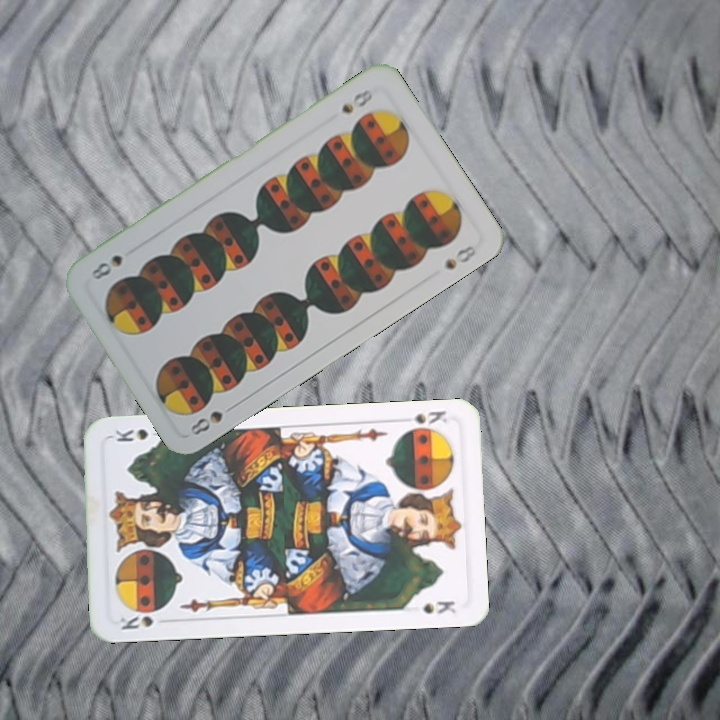S8: (186, 399, 240, 438), (337, 85, 377, 117)
SK: (395, 406, 449, 435), (116, 612, 156, 632)
